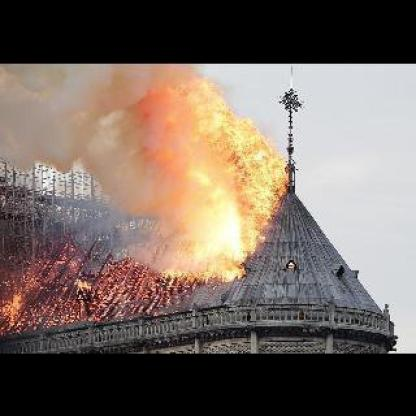fire: (126, 64, 288, 286), (0, 227, 196, 338)
